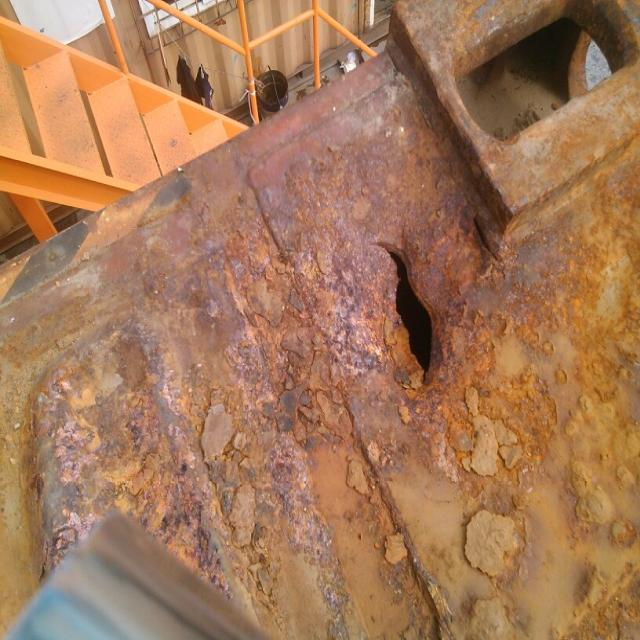hole: (347, 232, 473, 409)
